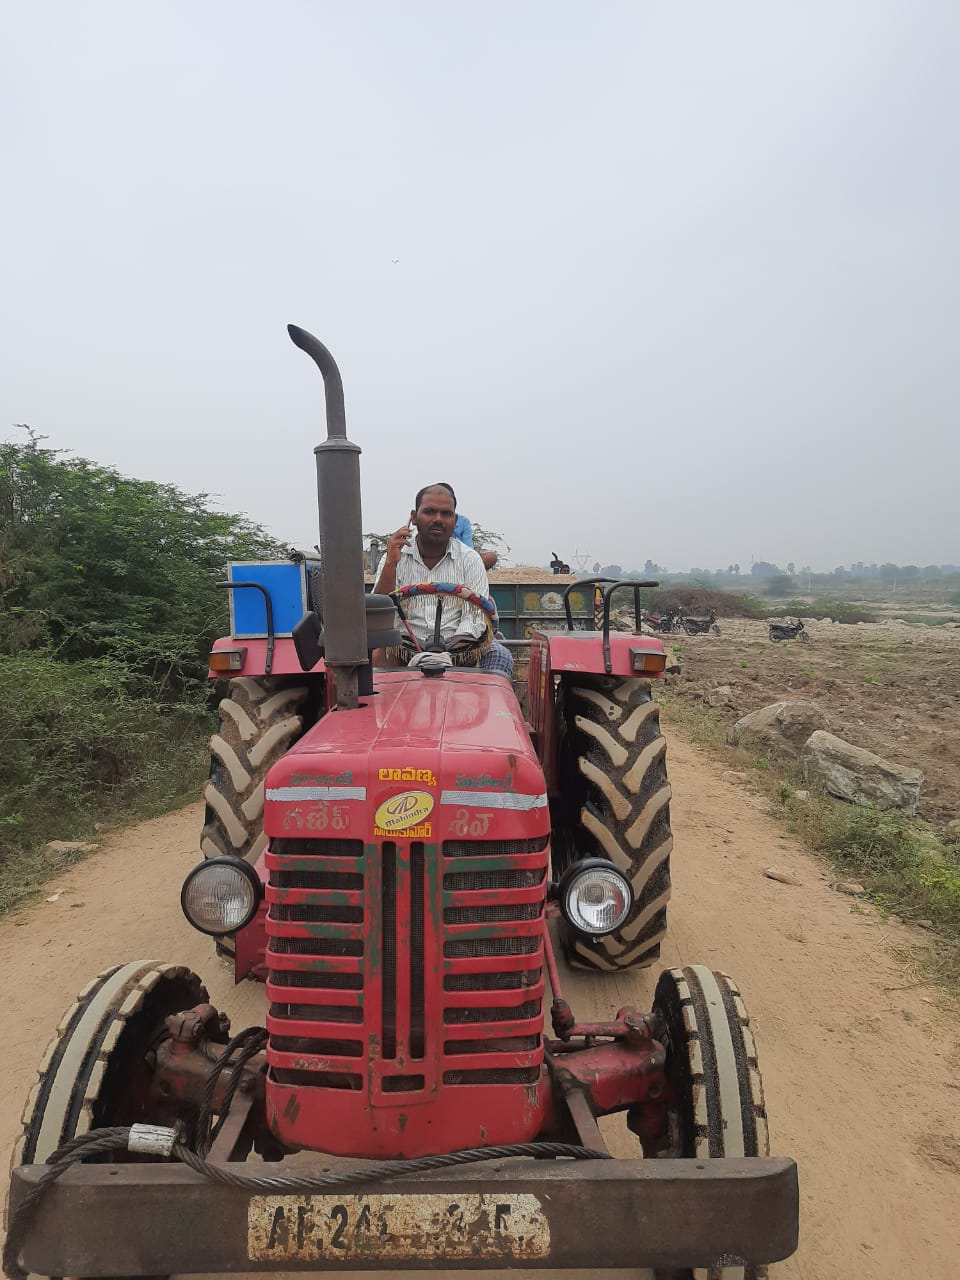num_plate: (240, 1192, 557, 1260)
